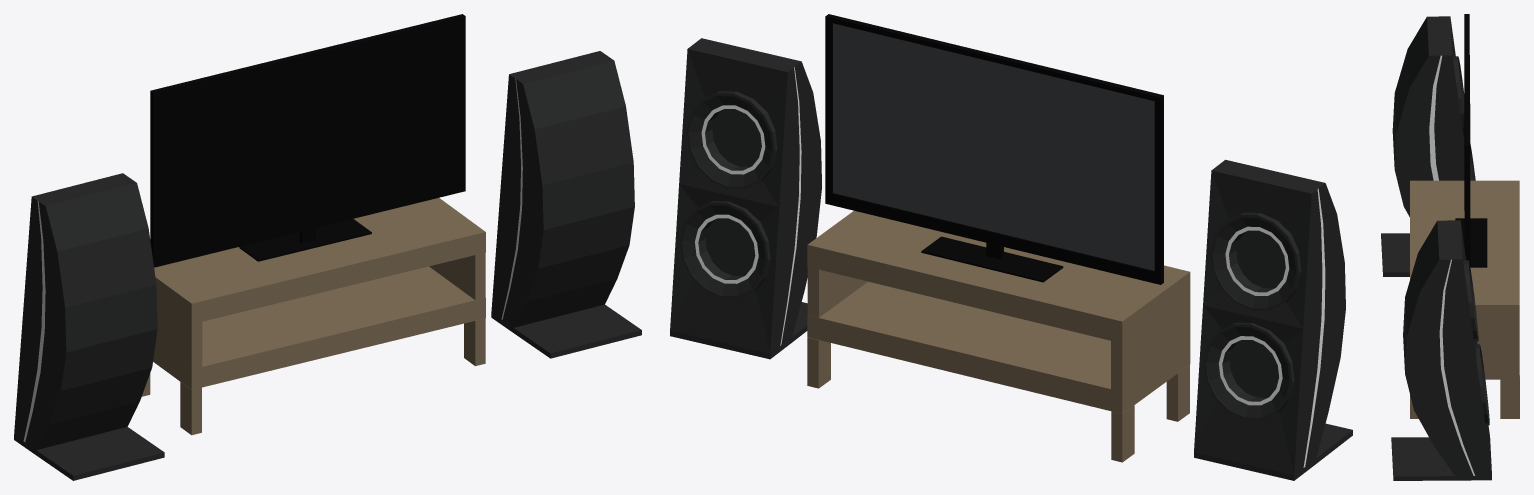
Rendered from Accesories_Entertainment_unit_F.glb.
The picture shows the model from 3 angles, left to right: view 1: azimuth 30°, elevation 25°; view 2: azimuth 150°, elevation 25°; view 3: azimuth 270°, elevation 25°; orthographic projection. The views are drawn at different scales.
Parts seen in each view (by area): view 1: Accesories_Entertainment_unit_F; view 2: Accesories_Entertainment_unit_F; view 3: Accesories_Entertainment_unit_F.
Part boxes in pixels (<box>): Accesories_Entertainment_unit_F: <box>14,14,641,480</box>; Accesories_Entertainment_unit_F: <box>670,14,1352,480</box>; Accesories_Entertainment_unit_F: <box>1381,14,1519,480</box>.
Bounding box in the file's own units: 2.24 × 1.19 × 0.538.
Materials: 1 (1 with a texture image).
